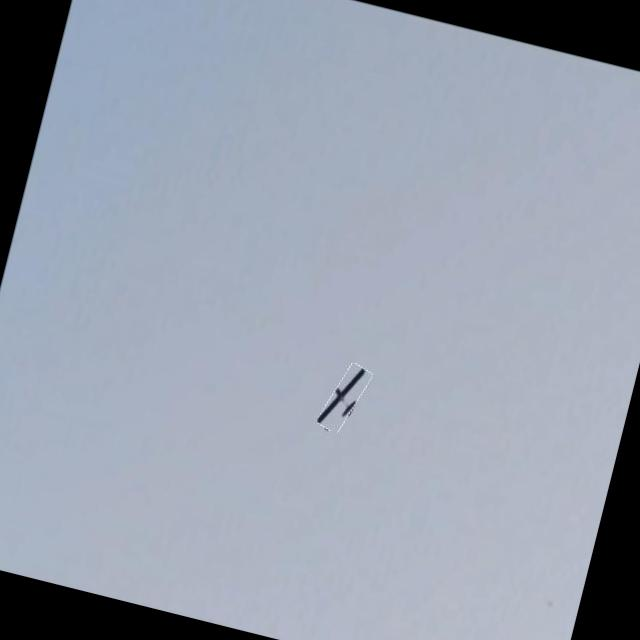UAV: (291, 336, 381, 449)
